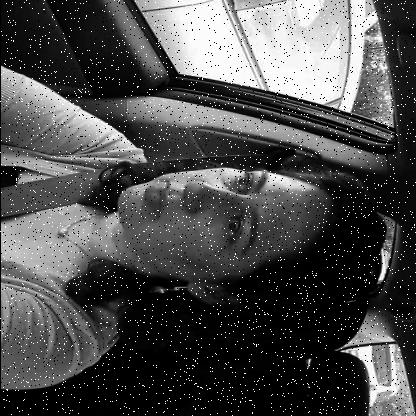seatbelt: (0, 126, 378, 334)
